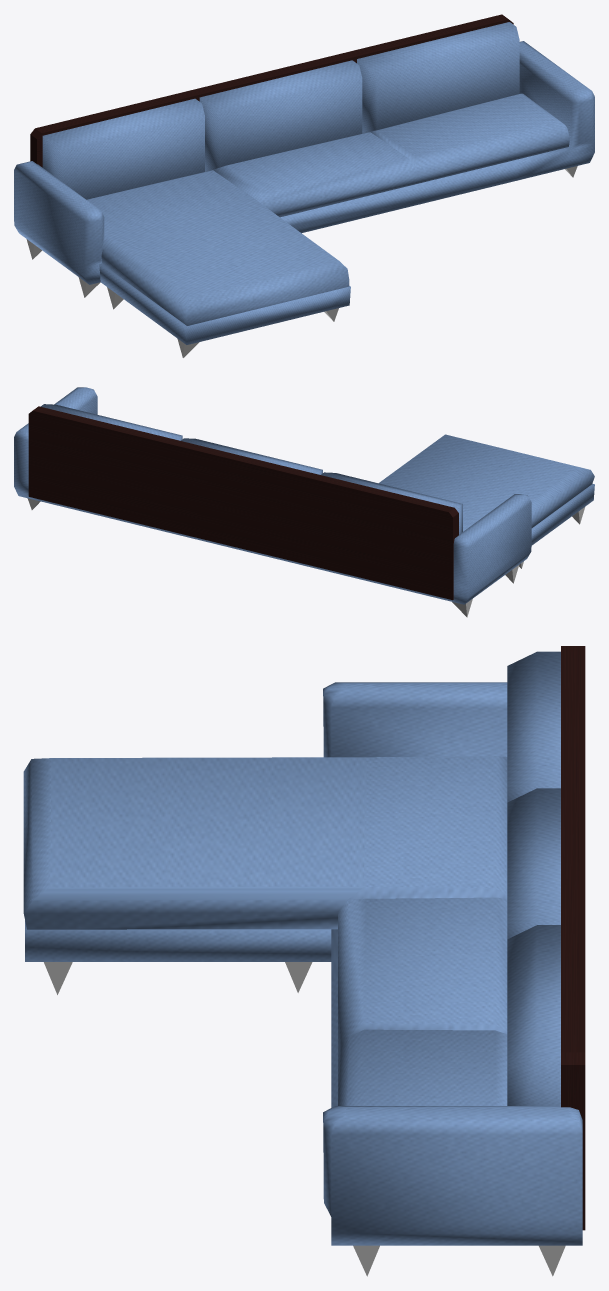
Rendered from Chaise_Sofa_B_08.FBX.
The picture shows the model from 3 angles, top to bottom: view 1: azimuth 30°, elevation 25°; view 2: azimuth 150°, elevation 25°; view 3: azimuth 270°, elevation 25°; orthographic projection. The views are drawn at different scales.
Parts seen in each view (by area): view 1: Chaise_Sofa_B; view 2: Chaise_Sofa_B; view 3: Chaise_Sofa_B.
Part boxes in pixels (x1,y1,x2,y2): Chaise_Sofa_B: [14, 14, 594, 357]; Chaise_Sofa_B: [14, 387, 594, 617]; Chaise_Sofa_B: [23, 646, 585, 1276].
Size of the model in its own units: 685 by 157 by 366.
